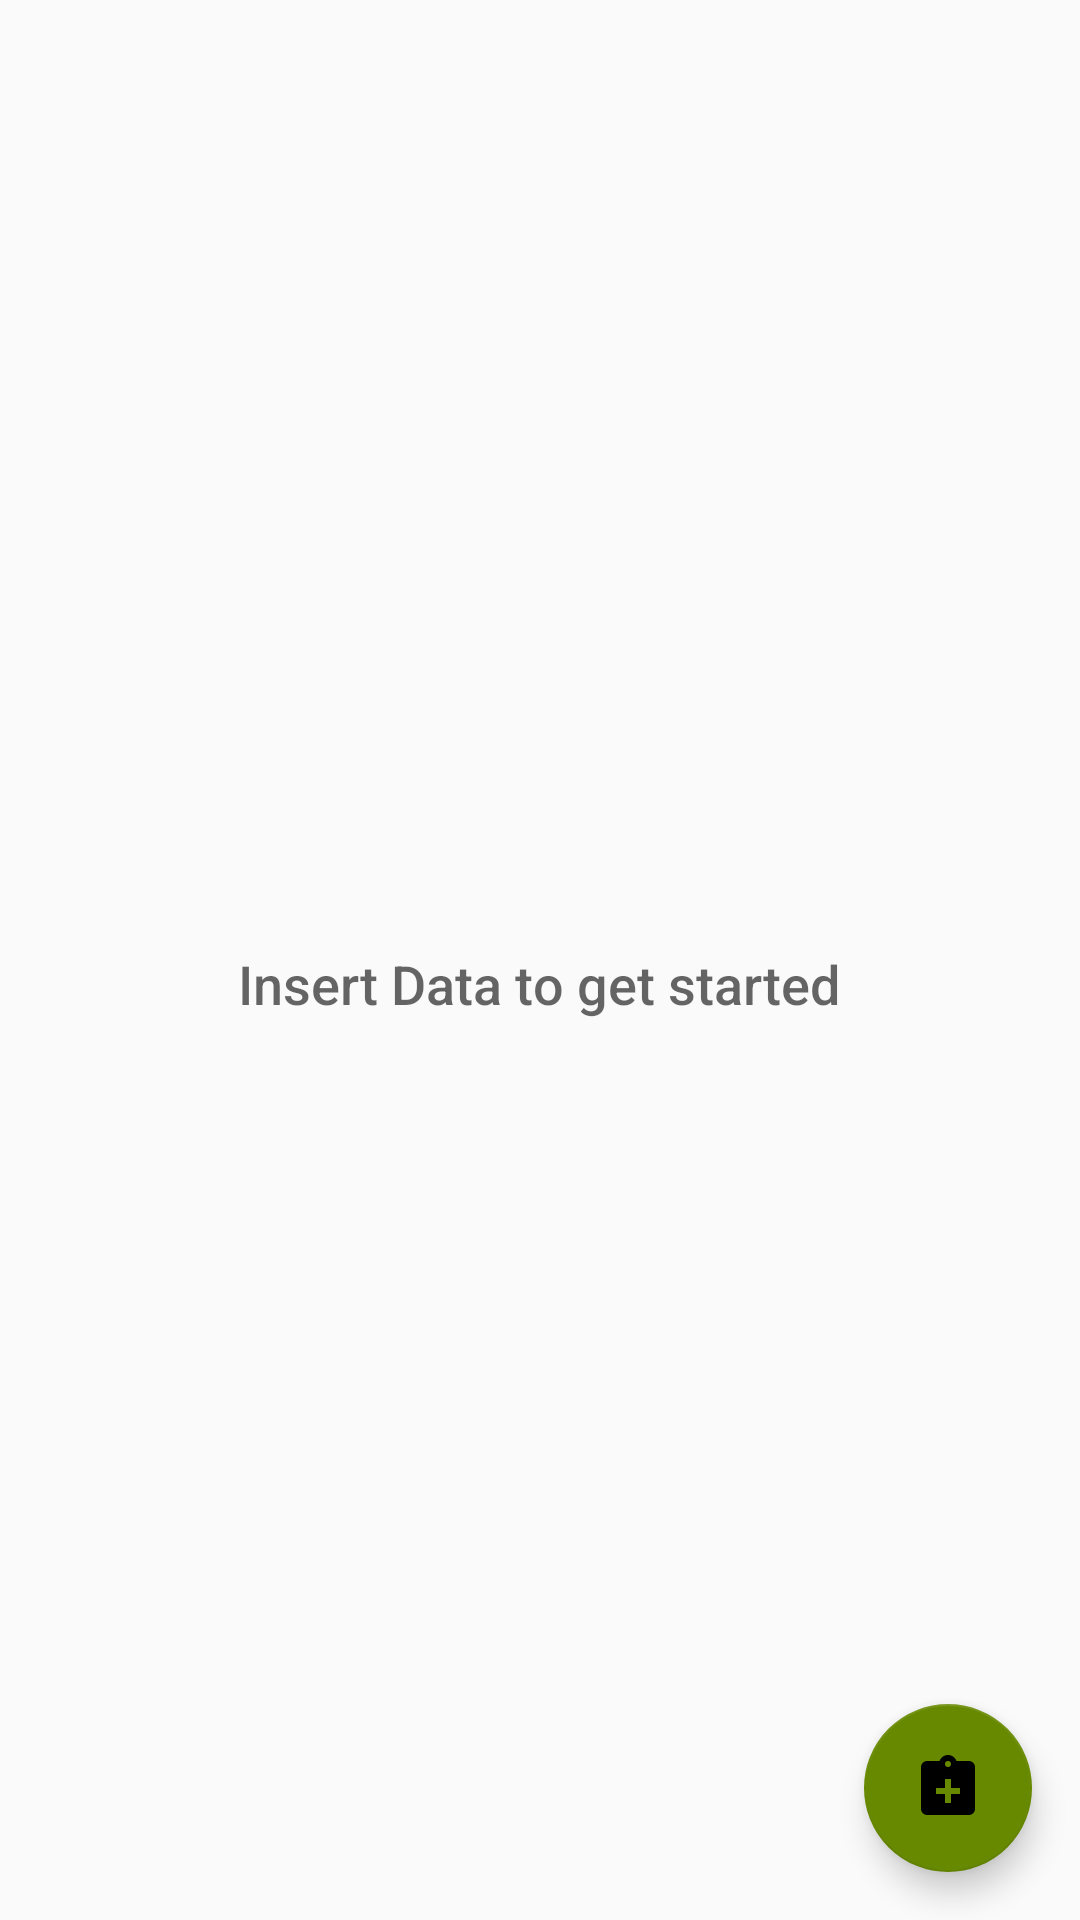

Named icons in this screenshot (1080px×1920px) and their centers, (x=x, y=y):
clipboard plus: (x=948, y=1788)
